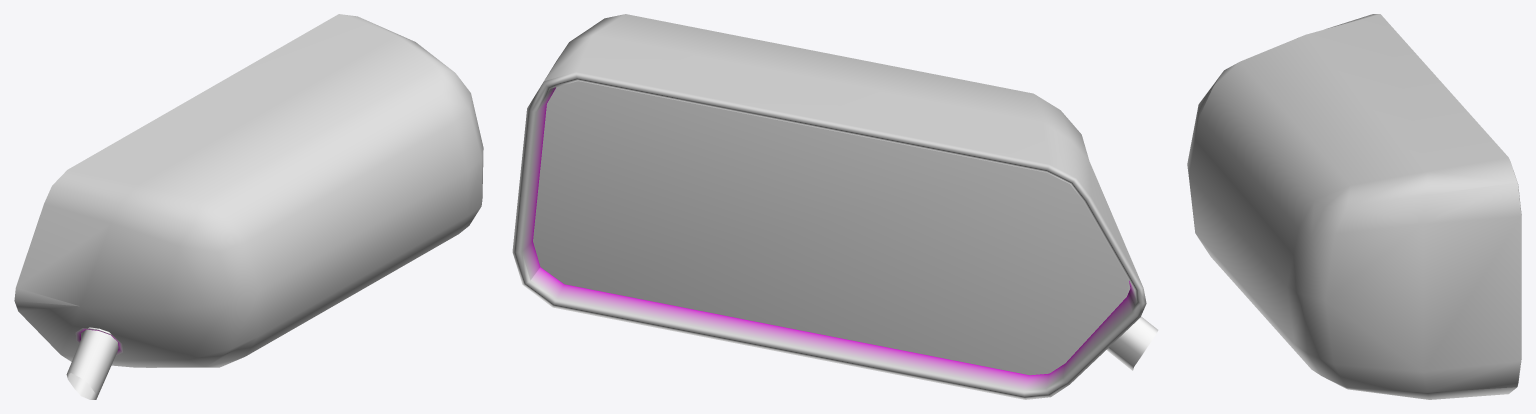
The model's file is Car_Nissan_SkylineGTRVspecR34_1999_MirrorL_SetE.fbx.
3 renders of one model, left to right at view 1: azimuth 30°, elevation 25°; view 2: azimuth 150°, elevation 25°; view 3: azimuth 270°, elevation 25°, orthographic. The views are drawn at different scales.
Parts seen in each view (by area): view 1: MirrorL 6; view 2: MirrorL 6; view 3: MirrorL 6.
Part boxes in pixels (<box>): MirrorL 6: <box>14,14,483,399</box>; MirrorL 6: <box>512,14,1158,399</box>; MirrorL 6: <box>1187,14,1521,399</box>.
Bounding box in the file's own units: 0.1791 × 0.0857 × 0.0973.
